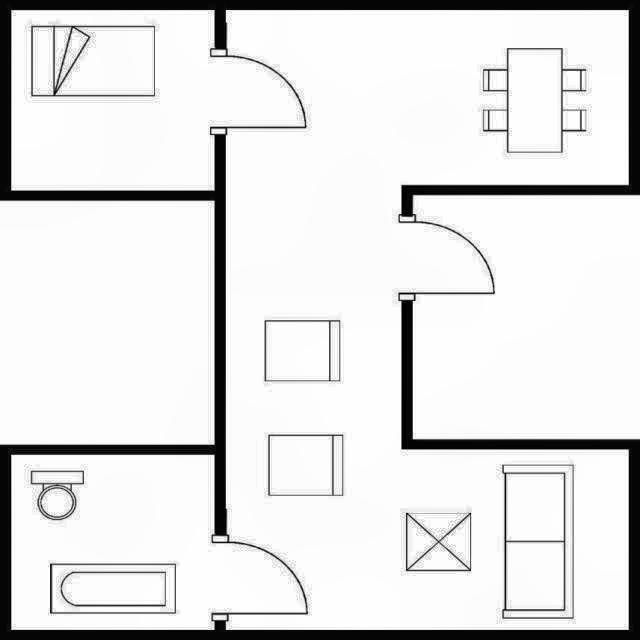room: (226, 10, 629, 630), (11, 10, 214, 190), (11, 455, 214, 630)
